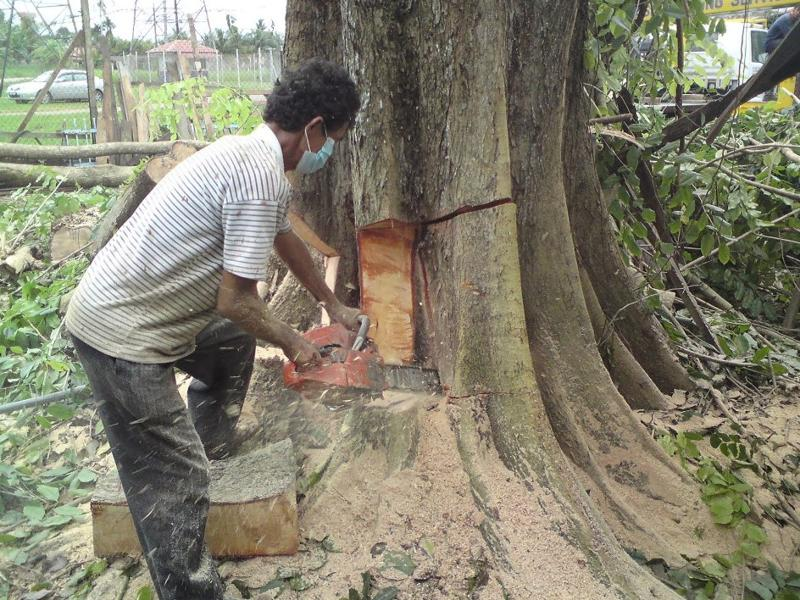person: (60, 59, 359, 600)
